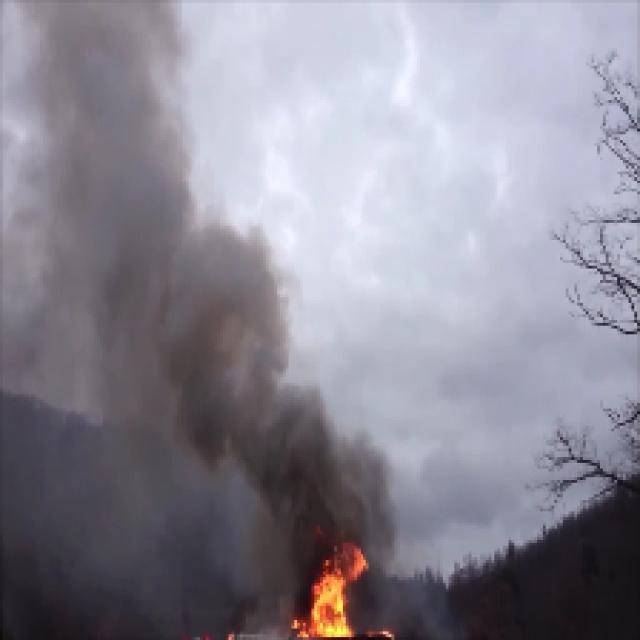Fire: (308, 564, 355, 634)
Smoke: (49, 22, 182, 326), (188, 260, 265, 452), (284, 412, 357, 552)
